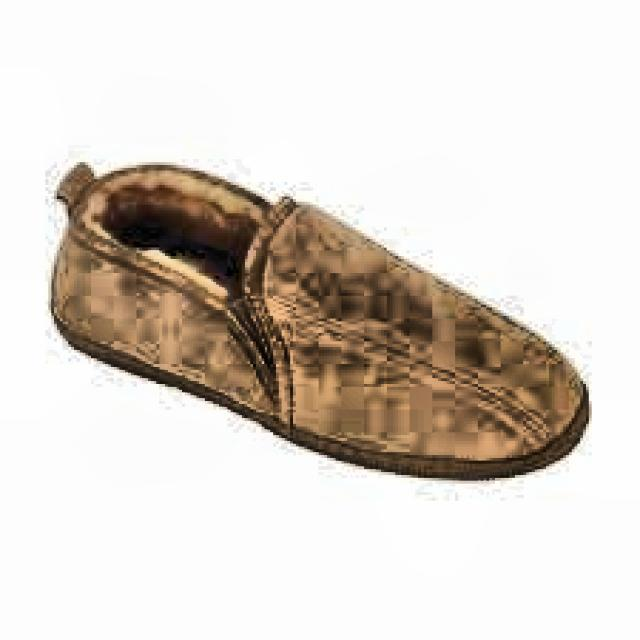shoes: (40, 149, 593, 485)
